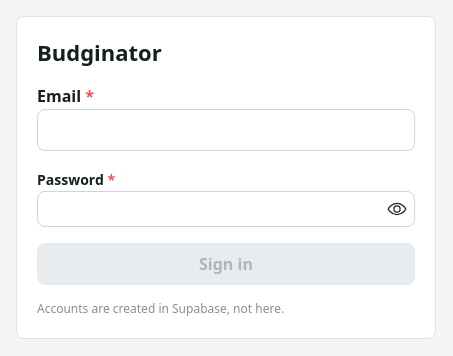
Test: SignInView › will not submit until both fields are filled
Expected: the button "Sign in" is disabled, 37,243 -> 415,285
Type "me@example.com" into the field labelled "Email *" at coordinates (226, 130), box 37,109 -> 415,151
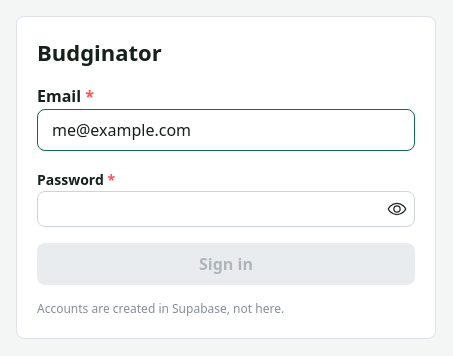
Expected: the button "Sign in" is disabled, 37,243 -> 415,285
Type "hunter2" into the password field labelled "Password *" at coordinates (226, 209), box 38,192 -> 414,226
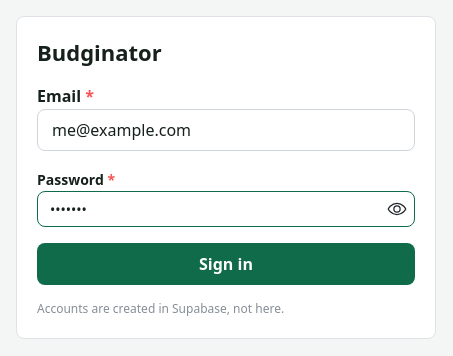
Expected: the button "Sign in" is enabled, 37,243 -> 415,285
